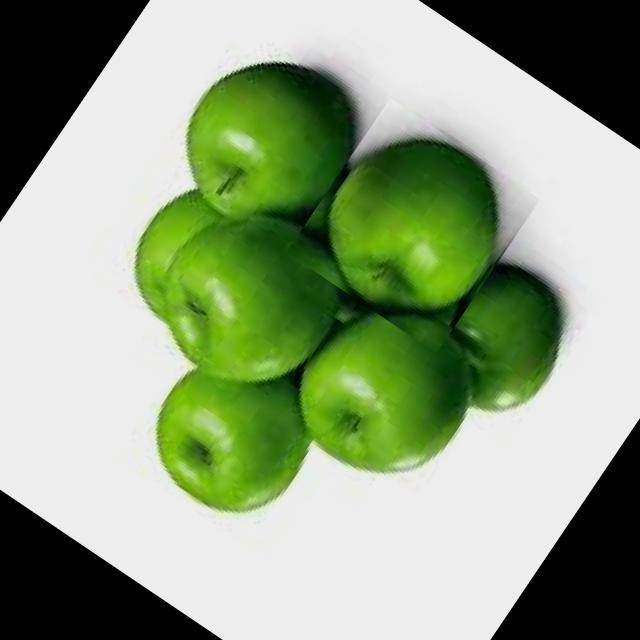Green Apple: (163, 215, 349, 384), (327, 137, 501, 313), (299, 311, 474, 474), (186, 61, 357, 222), (156, 369, 313, 513), (450, 262, 565, 413), (134, 189, 226, 323), (303, 168, 353, 240)
Red Apple: (134, 61, 566, 513)
